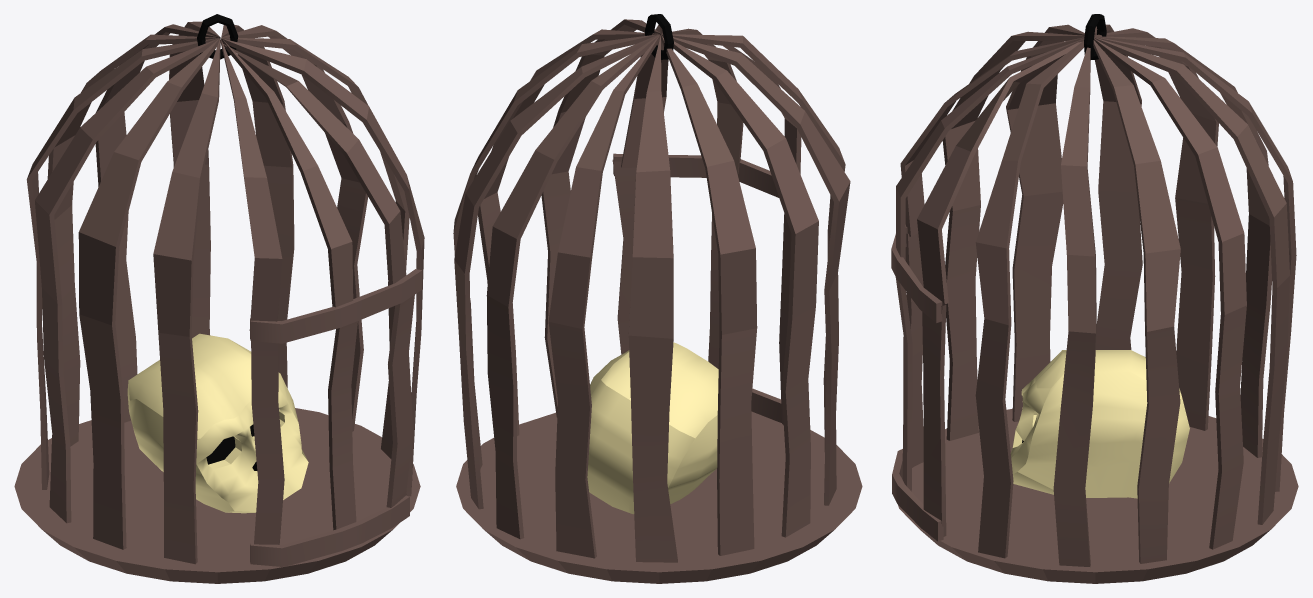
3 renders of one model, left to right at view 1: azimuth 30°, elevation 25°; view 2: azimuth 150°, elevation 25°; view 3: azimuth 270°, elevation 25°, orthographic.
Visible parts, largest first — view 1: RejasJaula, BaseJaula, Craneo1, PuertaJaula, pCube1, pCube2, AroJaula; view 2: RejasJaula, BaseJaula, Craneo1, PuertaJaula, pCube1, pCube2, AroJaula; view 3: RejasJaula, BaseJaula, Craneo1, PuertaJaula, pCube2, pCube1, AroJaula.
Part boxes in pixels (box(x1,y1,x2,y2)): RejasJaula: box(26, 21, 424, 564); BaseJaula: box(14, 408, 420, 583); Craneo1: box(127, 333, 308, 513); PuertaJaula: box(251, 295, 414, 544); pCube1: box(250, 269, 422, 343); pCube2: box(250, 496, 409, 567); AroJaula: box(197, 14, 238, 59); RejasJaula: box(453, 19, 850, 562); BaseJaula: box(456, 411, 862, 583); Craneo1: box(587, 342, 718, 514); PuertaJaula: box(612, 159, 791, 424); pCube1: box(613, 153, 778, 197); pCube2: box(751, 388, 781, 422); AroJaula: box(645, 14, 673, 59); RejasJaula: box(896, 24, 1296, 566); BaseJaula: box(898, 408, 1298, 583); Craneo1: box(1010, 350, 1189, 498); PuertaJaula: box(895, 233, 946, 536); pCube2: box(892, 449, 943, 541); pCube1: box(891, 225, 942, 322); AroJaula: box(1084, 14, 1106, 59).
Bounding box in the file's own units: 0.6122 × 0.8029 × 0.6007.
